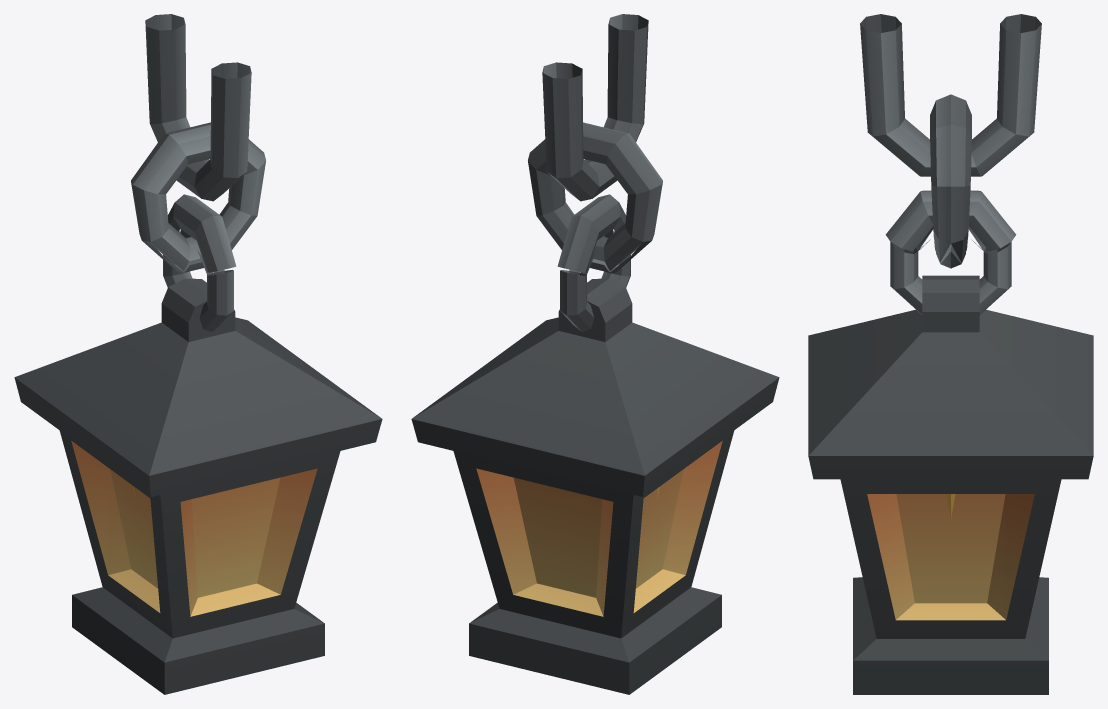
Rendered from EVHalloween_Decor_HangingLantern_Lit.fbx.
3 views of the same model, side by side, from view 1: azimuth 30°, elevation 25°; view 2: azimuth 150°, elevation 25°; view 3: azimuth 270°, elevation 25° (orthographic). The views are drawn at different scales.
Visible parts, largest first — view 1: EVHalloween_Decor_PumpkinOrange; view 2: EVHalloween_Decor_PumpkinOrange; view 3: EVHalloween_Decor_PumpkinOrange.
Part boxes in pixels (bbox=[...]): EVHalloween_Decor_PumpkinOrange: bbox=[14, 14, 382, 694]; EVHalloween_Decor_PumpkinOrange: bbox=[411, 14, 779, 694]; EVHalloween_Decor_PumpkinOrange: bbox=[808, 14, 1093, 694].
Bounding box in the file's own units: 16.36 × 39.85 × 16.36.
